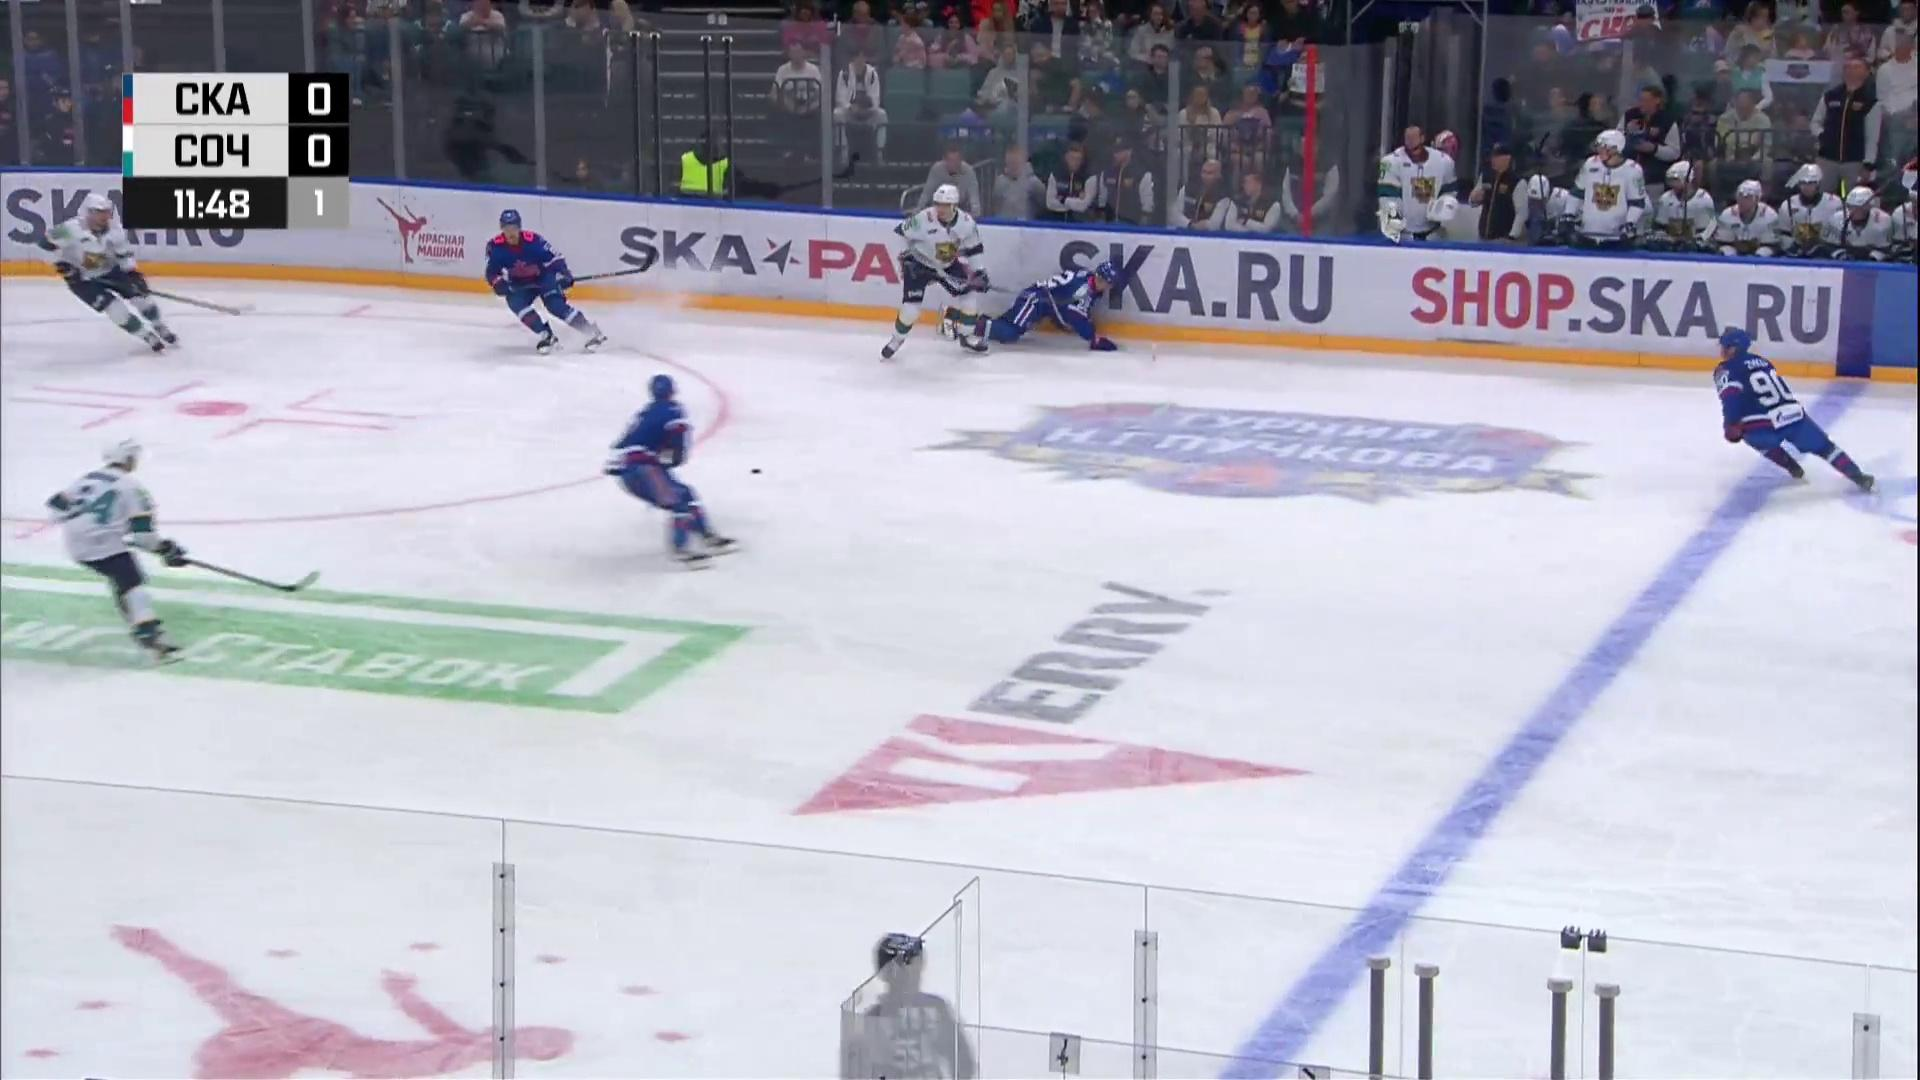ball: (750, 468, 762, 475)
